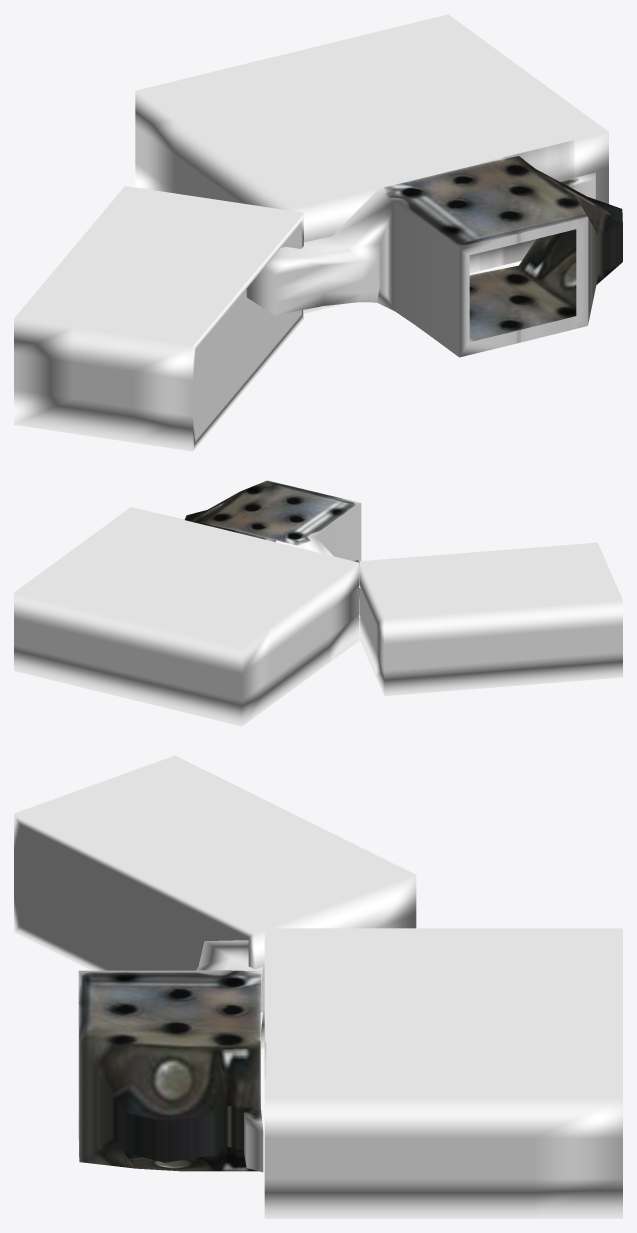
Rendered from lighter.obj.
3 views of the same model, one above another, from view 1: azimuth 30°, elevation 25°; view 2: azimuth 150°, elevation 25°; view 3: azimuth 270°, elevation 25° (orthographic). The views are drawn at different scales.
Visible parts, largest first — view 1: Lighter; view 2: Lighter; view 3: Lighter.
Boxes of the visible parts, x1=… form: Lighter: x1=14, y1=14, x2=622, y2=451; Lighter: x1=14, y1=480, x2=622, y2=726; Lighter: x1=14, y1=755, x2=622, y2=1218.
Size of the model in its own units: 1.26 by 0.2115 by 0.9401.
1 material, 1 textured.
